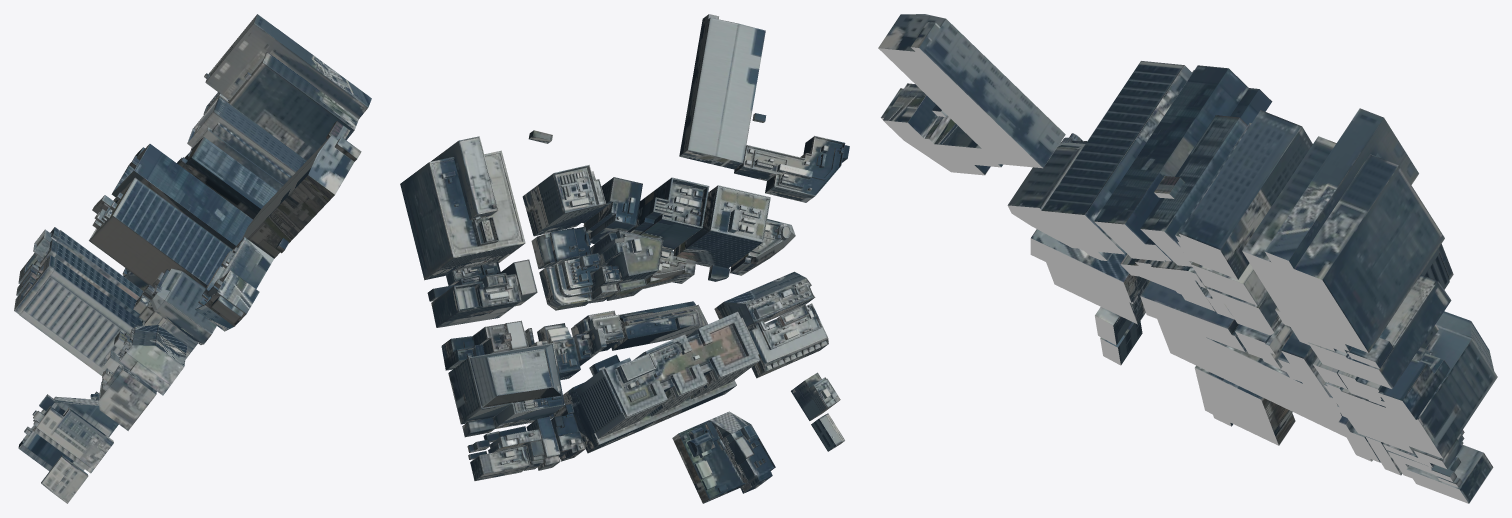
The model's file is l2_data472.glb.
3 renders of one model, left to right at view 1: azimuth 30°, elevation 25°; view 2: azimuth 150°, elevation 25°; view 3: azimuth 270°, elevation 25°, orthographic. The views are drawn at different scales.
Bounding box in the file's own units: 187 × 176 × 196.
2 materials, 1 textured.
